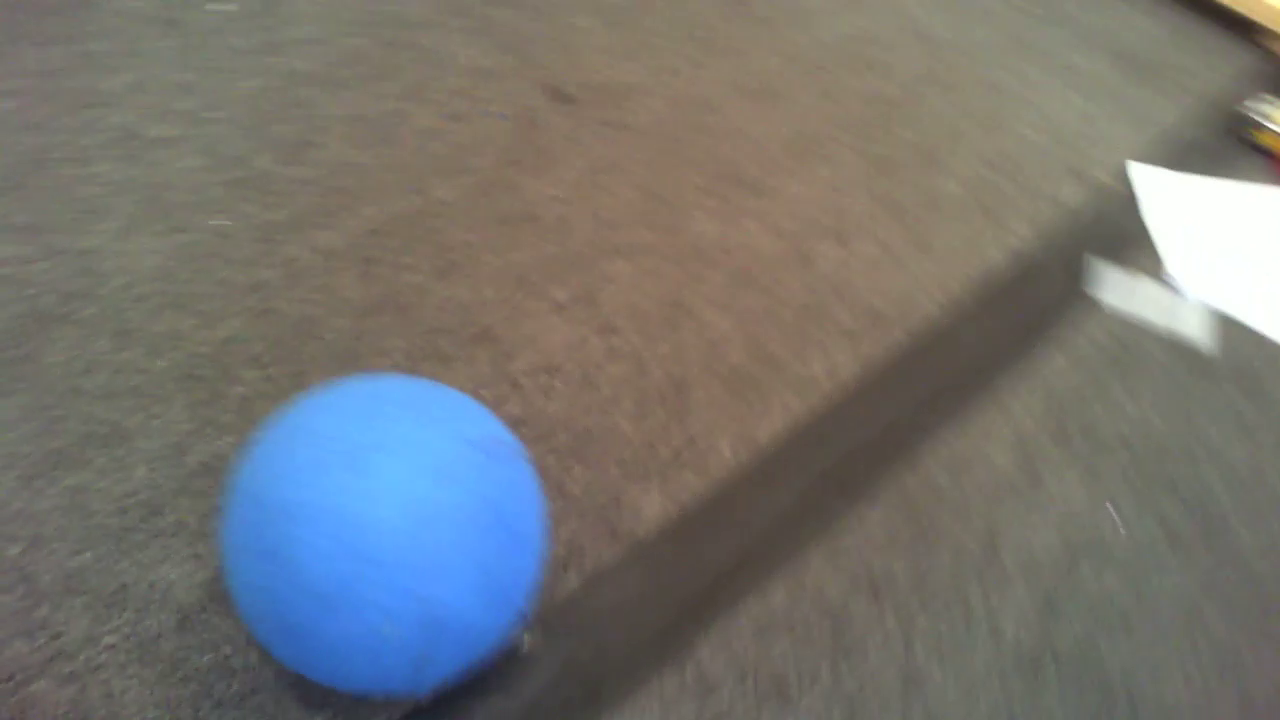blue_cargo: (213, 364, 569, 697)
